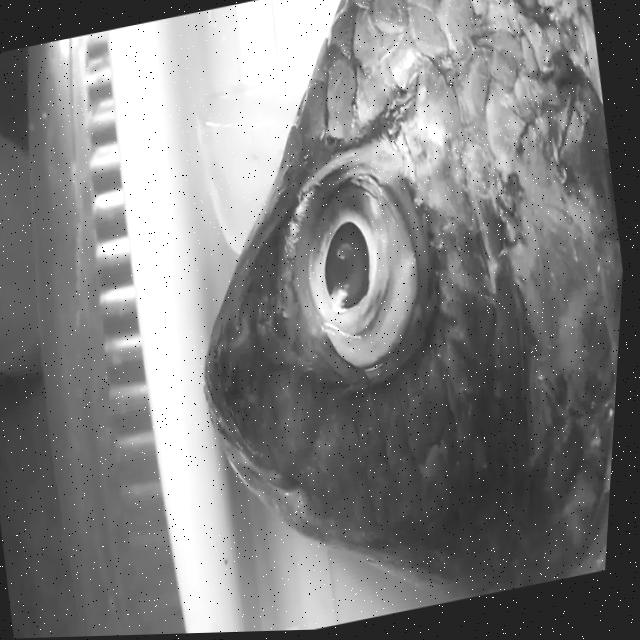Fresh: (243, 113, 458, 445)
